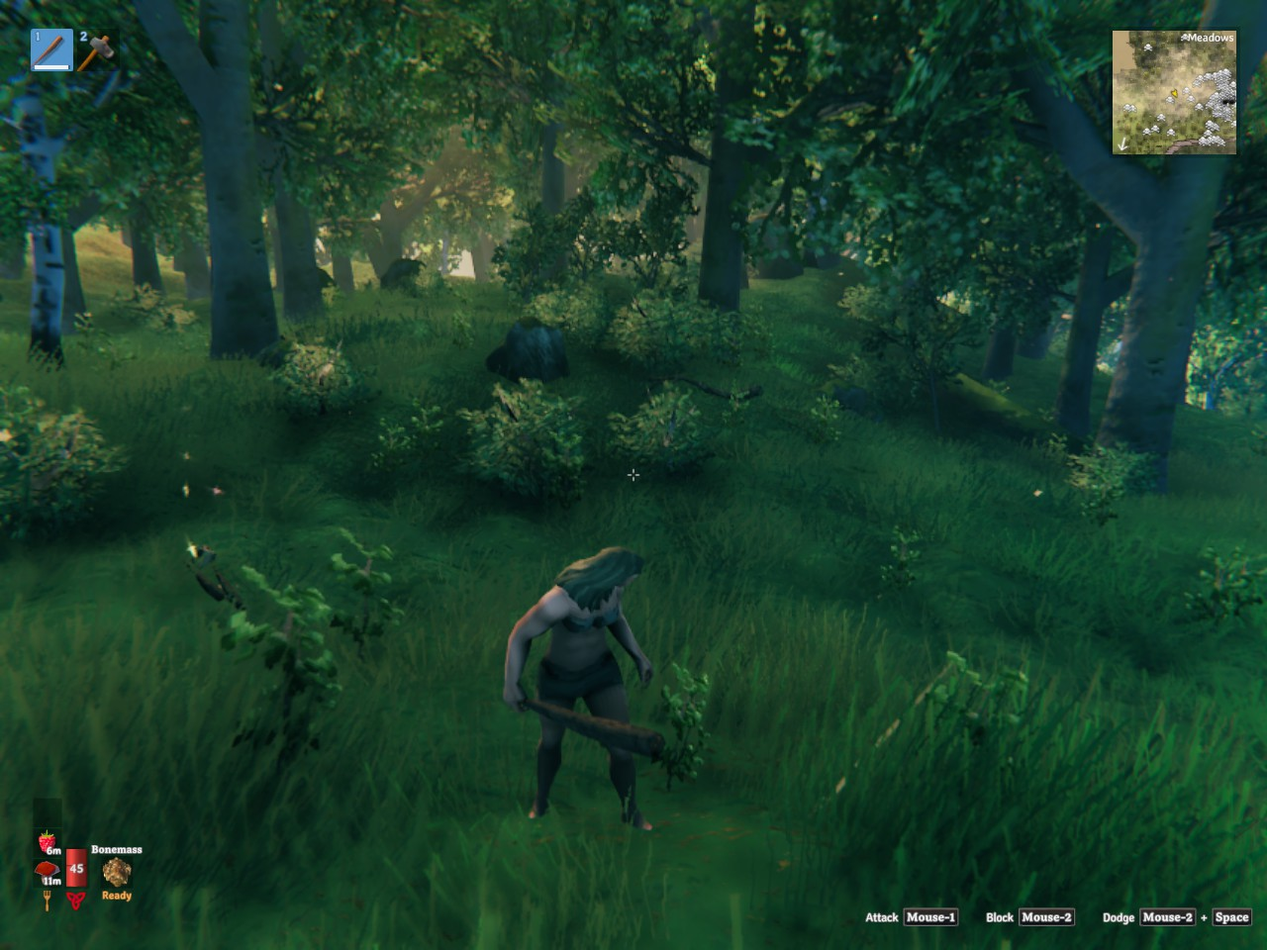Branch: (650, 375, 762, 401)
Club: (189, 545, 243, 610)
Food Indicator: (36, 797, 63, 891)
Health Bar: (63, 820, 90, 891)
Hotbar: (24, 21, 195, 80)
